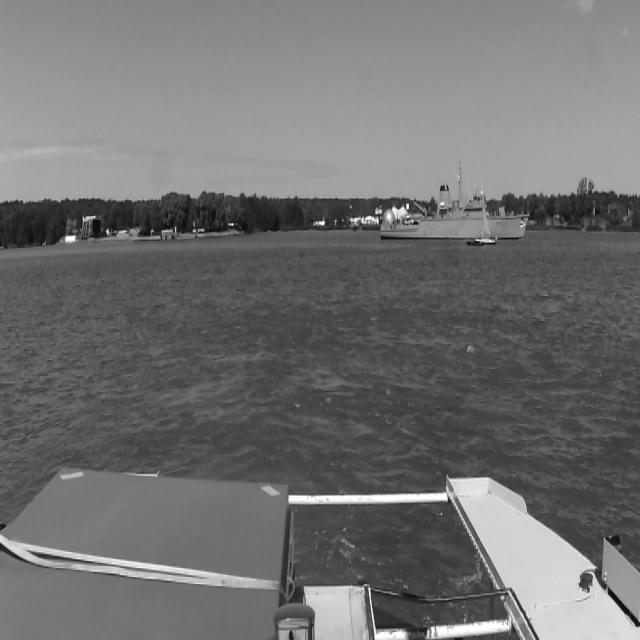ship: (380, 160, 530, 240), (469, 196, 499, 246)
